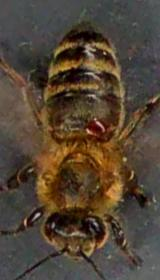varroa_mite: (78, 112, 110, 140)
